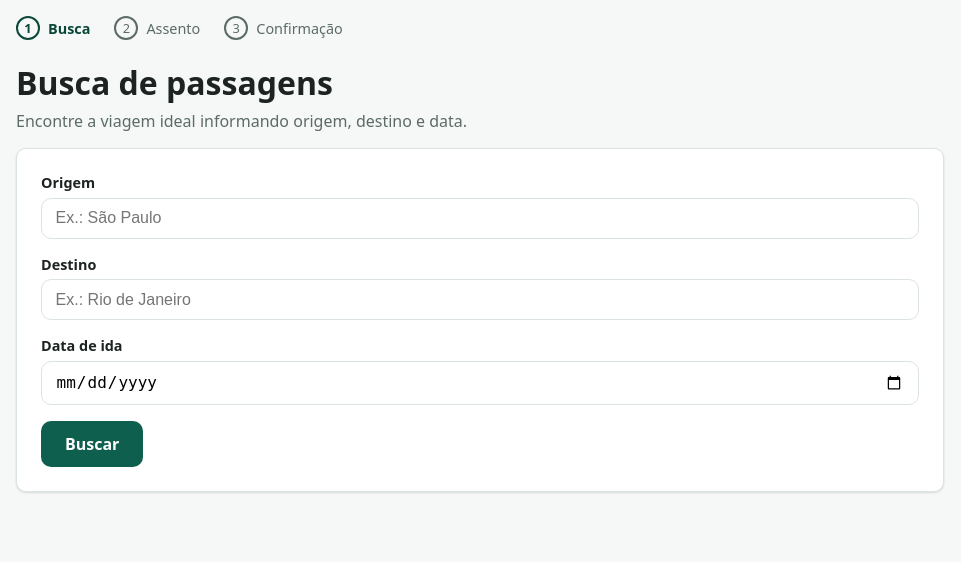
Test: SearchPage › mostra mensagem quando a busca não encontra viagens
Click the button "Buscar". click: (92, 444)
box: [41,420,143,466]
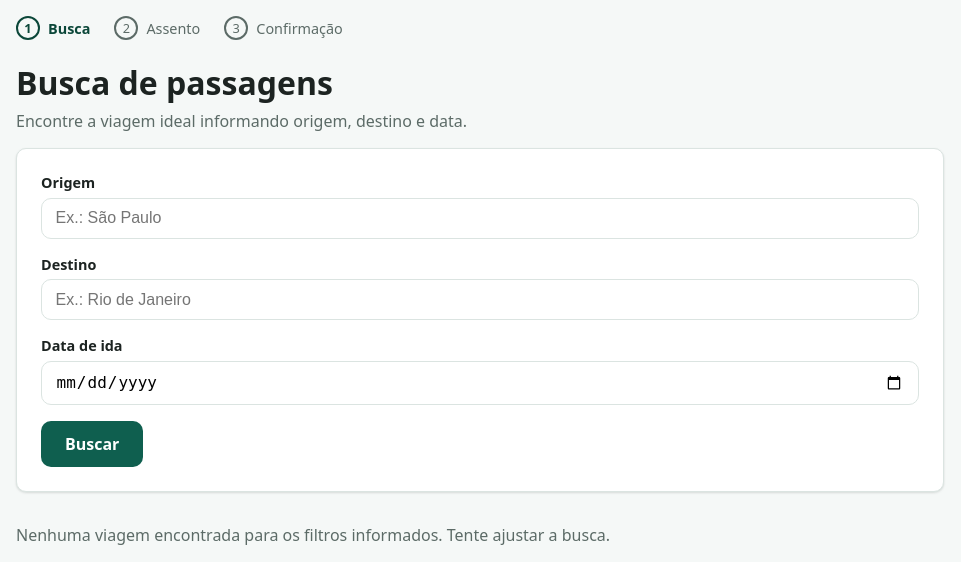
Result: the text "Nenhuma viagem encontrada" is shown at [16,524,610,546]
